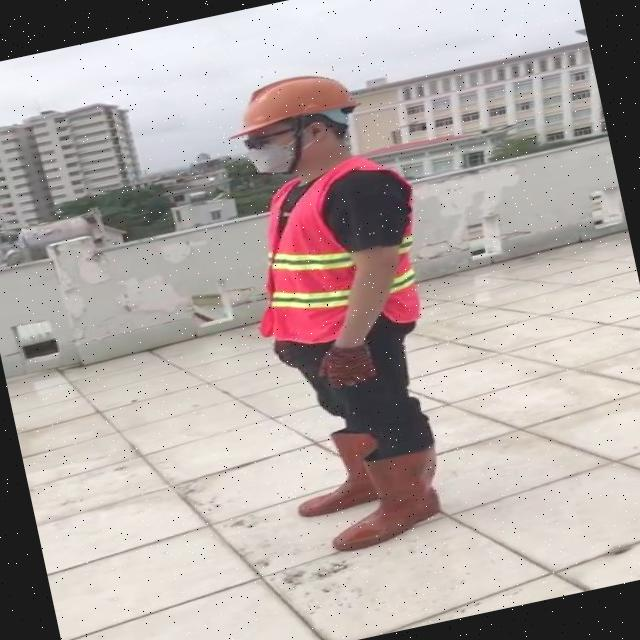boots: (319, 446, 453, 552), (286, 425, 388, 518)
helmet: (217, 60, 363, 142)
vest: (237, 152, 433, 354)
